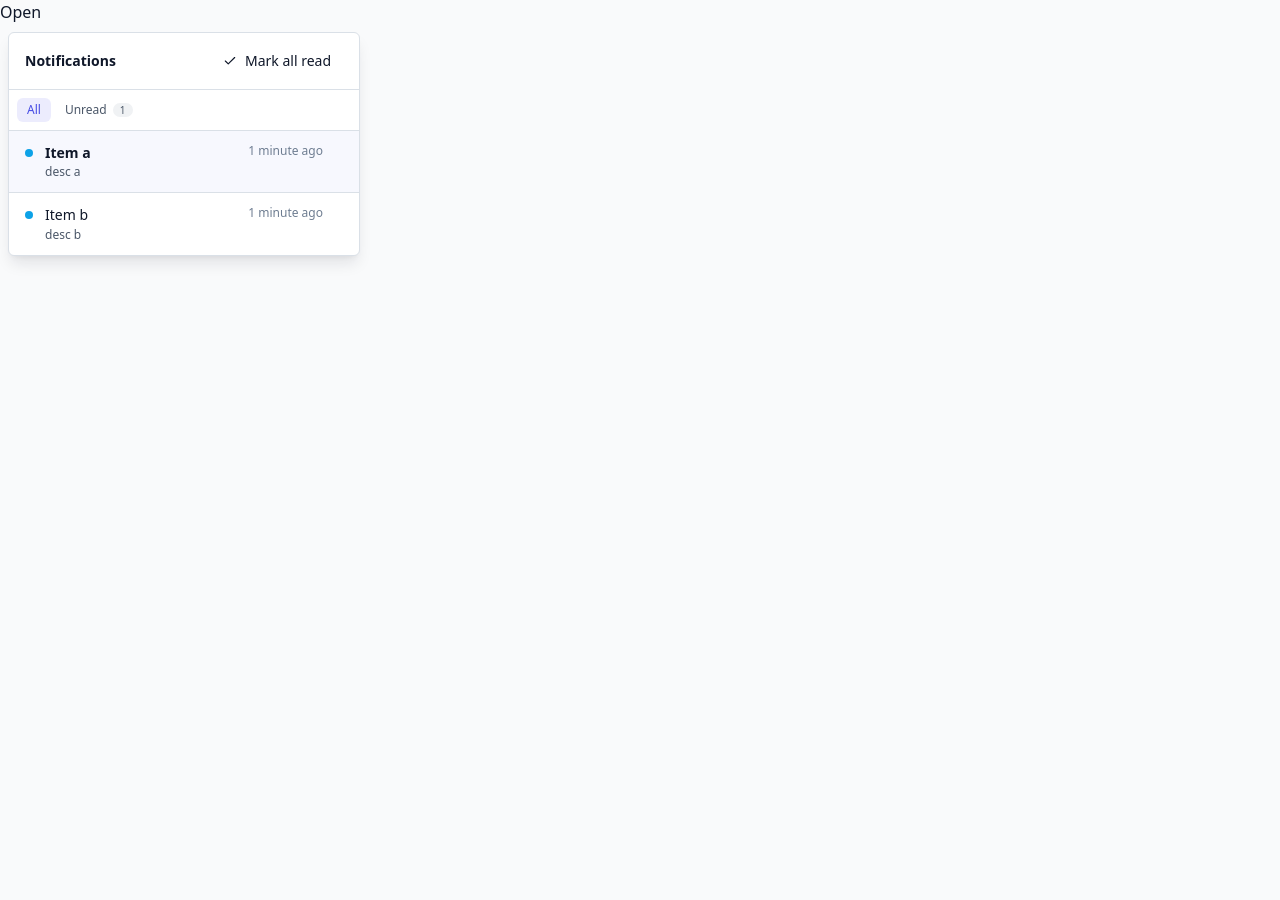
Test: NotificationsPanel › switches to the unread filter via the tab
Step 1. Click the tab "Unread 1" → [99, 110], box [55,98,143,122]
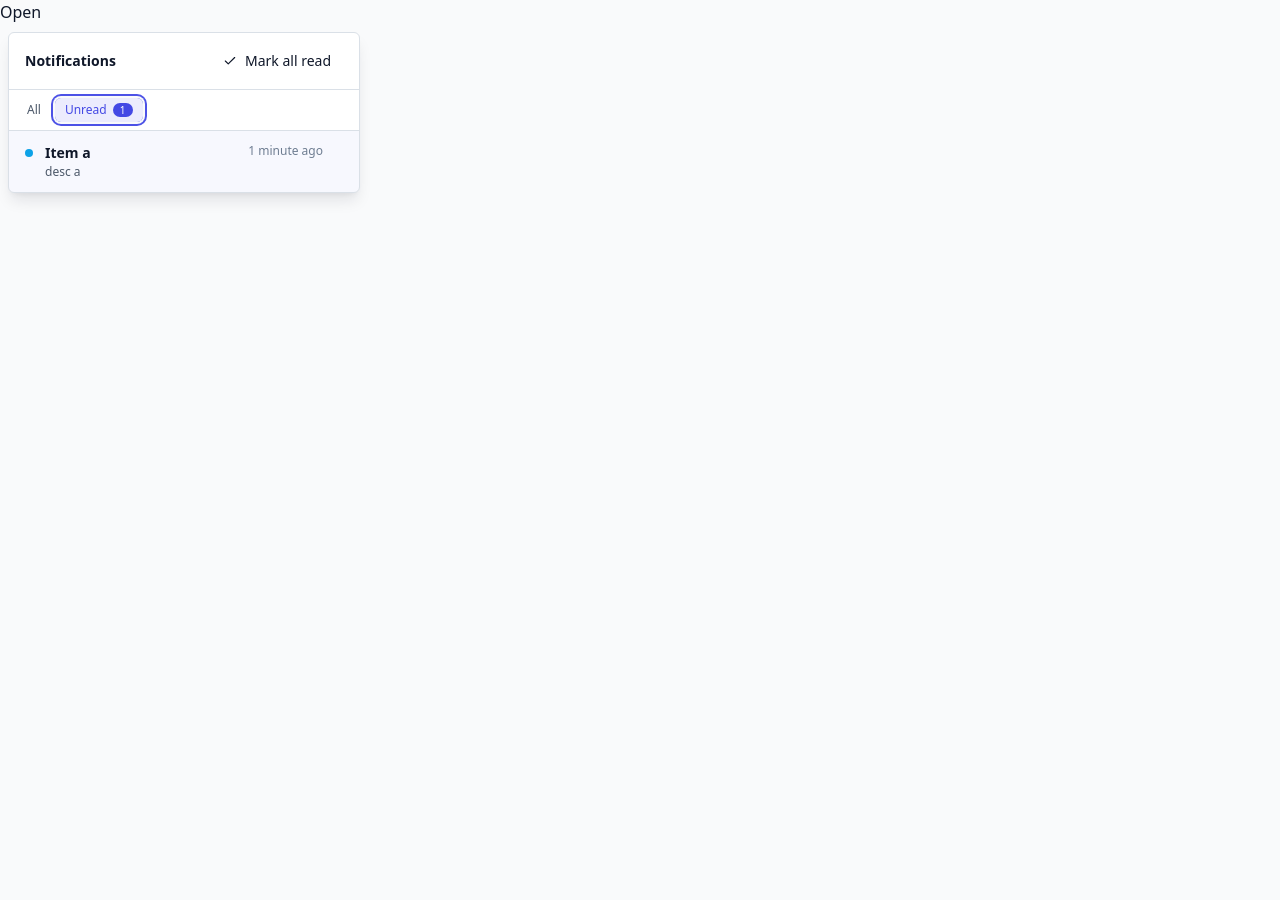
Expected: the text "Item a" is shown, [45,143,91,162]
Result: the button "Item b" is gone
